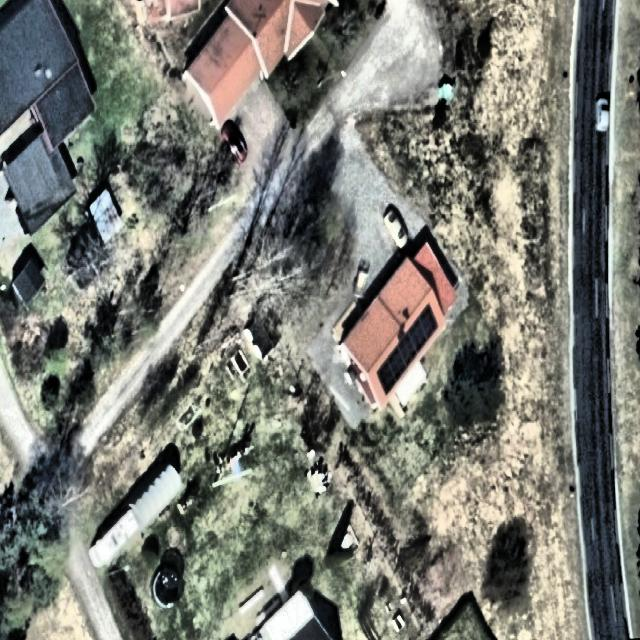roof_pv: (376, 342, 438, 394), (404, 302, 441, 352)
